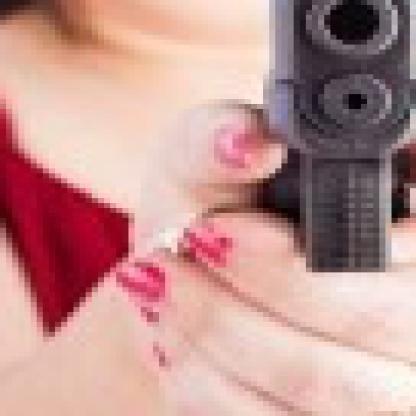gun: (245, 0, 410, 287)
